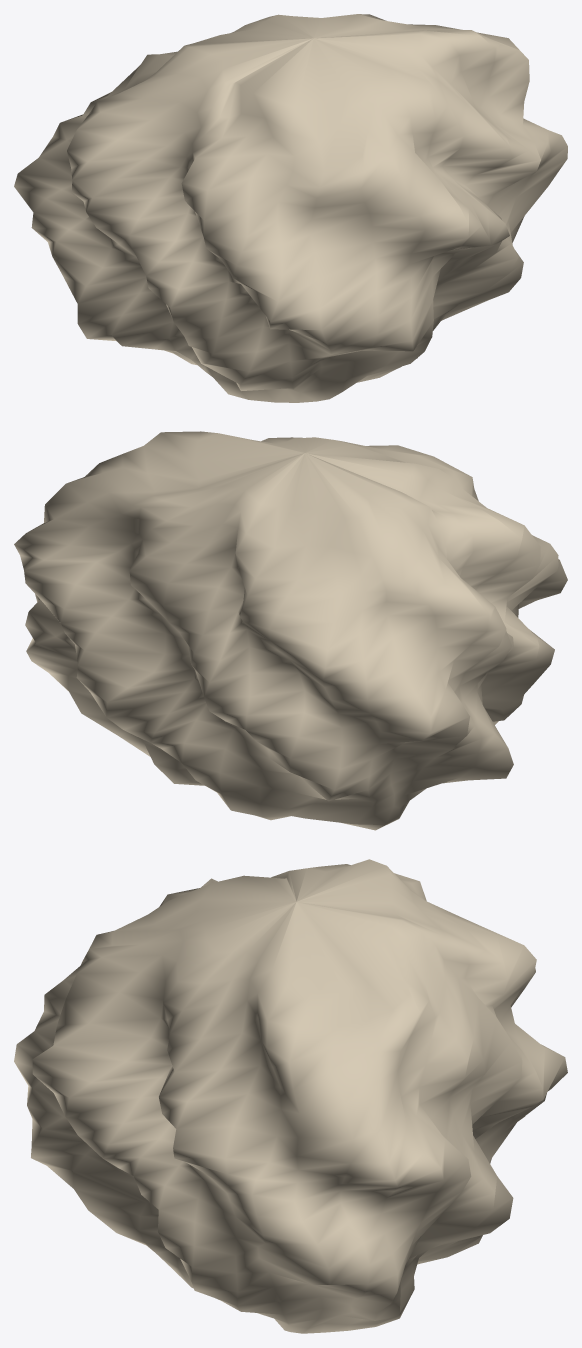
Rendered from rock1.glb.
The picture shows the model from 3 angles, top to bottom: view 1: azimuth 30°, elevation 25°; view 2: azimuth 150°, elevation 25°; view 3: azimuth 270°, elevation 25°; orthographic projection. The views are drawn at different scales.
Parts seen in each view (by area): view 1: rock1_rock; view 2: rock1_rock; view 3: rock1_rock.
Boxes of the visible parts, x1,y1,x2,y2 form: rock1_rock: (14, 14, 567, 402); rock1_rock: (14, 431, 567, 830); rock1_rock: (14, 859, 567, 1333).
Bounding box in the file's own units: 2.23 × 1.47 × 1.93.
